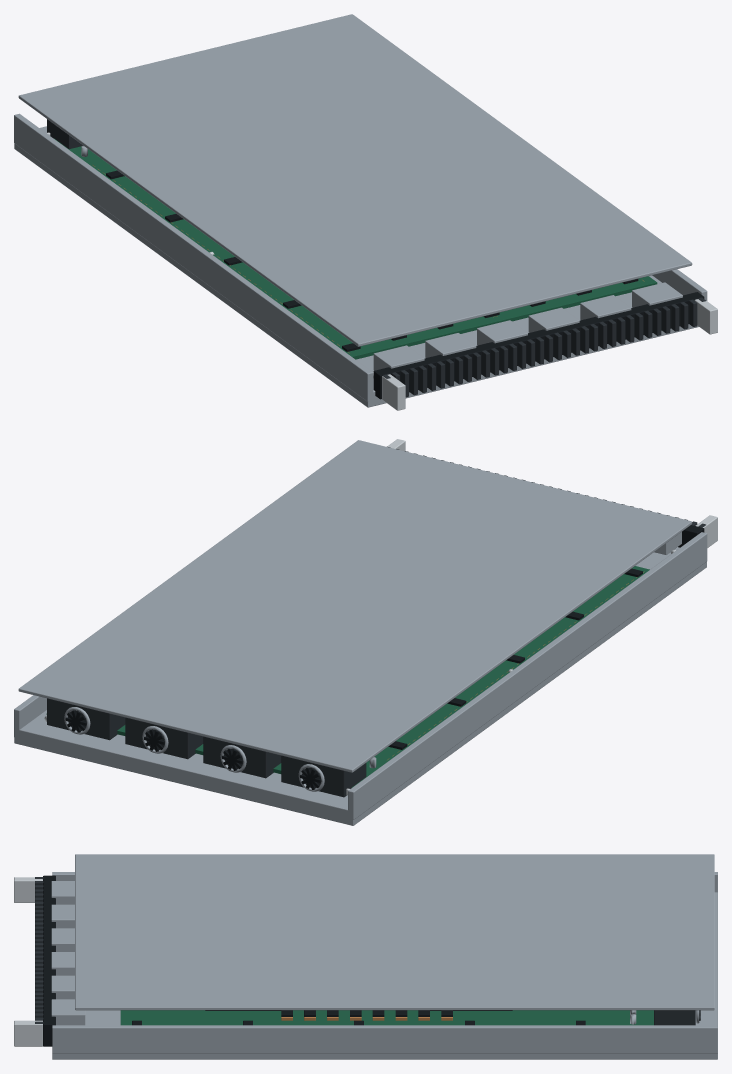
File: Tray.glb
3 views of the same model, one above another, from view 1: azimuth 30°, elevation 25°; view 2: azimuth 150°, elevation 25°; view 3: azimuth 270°, elevation 25° (orthographic). The views are drawn at different scales.
Parts seen in each view (by area): view 1: Lid, Tray_chassis, PCB_and_passive_components, Fans_and_IO; view 2: Lid, Tray_chassis, Fans_and_IO, PCB_and_passive_components; view 3: Lid, Tray_chassis, PCB_and_passive_components, Fans_and_IO.
Boxes of the visible parts, x1,y1,x2,y2 form: Lid: [18, 14, 692, 346]; Tray_chassis: [14, 113, 717, 410]; PCB_and_passive_components: [54, 138, 657, 359]; Fans_and_IO: [47, 119, 682, 370]; Lid: [18, 440, 692, 772]; Tray_chassis: [14, 439, 717, 825]; Fans_and_IO: [47, 532, 681, 797]; PCB_and_passive_components: [46, 566, 649, 787]; Lid: [75, 854, 714, 1010]; Tray_chassis: [14, 872, 717, 1059]; PCB_and_passive_components: [120, 1010, 653, 1025]; Fans_and_IO: [51, 881, 700, 1025].
Bounding box in the file's own units: 0.566 × 0.0865 × 1.08.
